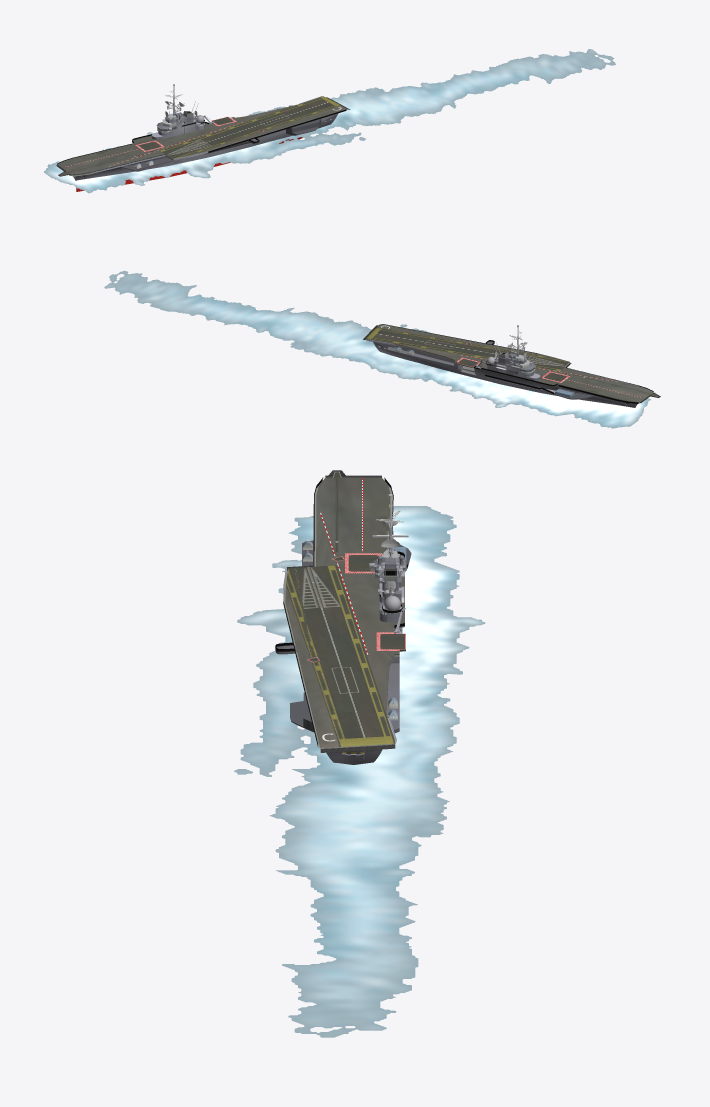
The model's file is foch.glb.
3 renders of one model, top to bottom at view 1: azimuth 30°, elevation 25°; view 2: azimuth 150°, elevation 25°; view 3: azimuth 270°, elevation 25°, orthographic. The views are drawn at different scales.
Visible parts, largest first — view 1: Wake, Pont1, Pont3, Coque.000, Pont2, Pont5, Pont4, object.009, ilot1, object.008; view 2: Wake, Pont1, Pont3, Coque.000, Pont2, Pont5, box.039, box.007, ilot1, Pont4; view 3: Wake, Pont1, Pont3, Pont2, Pont5, Pont4.
Boxes of the visible parts, bbox=[...] form: Wake: bbox=[44, 49, 615, 193]; Pont1: bbox=[57, 104, 296, 175]; Pont3: bbox=[165, 98, 338, 159]; Coque.000: bbox=[64, 114, 337, 191]; Pont2: bbox=[159, 96, 346, 158]; Pont5: bbox=[193, 106, 346, 154]; Pont4: bbox=[162, 139, 211, 158]; object.009: bbox=[121, 157, 180, 171]; ilot1: bbox=[151, 118, 198, 139]; object.008: bbox=[286, 118, 321, 135]; Wake: bbox=[104, 270, 650, 428]; Pont1: bbox=[395, 343, 653, 402]; Pont3: bbox=[367, 329, 569, 367]; Coque.000: bbox=[373, 342, 645, 407]; Pont2: bbox=[365, 327, 566, 371]; Pont5: bbox=[376, 324, 549, 356]; box.039: bbox=[474, 367, 558, 390]; box.007: bbox=[387, 347, 460, 370]; ilot1: bbox=[487, 359, 540, 380]; Pont4: bbox=[523, 354, 568, 369]; Wake: bbox=[234, 506, 485, 1037]; Pont1: bbox=[316, 477, 404, 713]; Pont3: bbox=[304, 607, 385, 747]; Pont2: bbox=[285, 565, 395, 748]; Pont5: bbox=[285, 586, 338, 747]; Pont4: bbox=[288, 566, 340, 609].
Size of the model in its own units: 591 by 68.59 by 114.
Materials: 60 (45 with a texture image).
